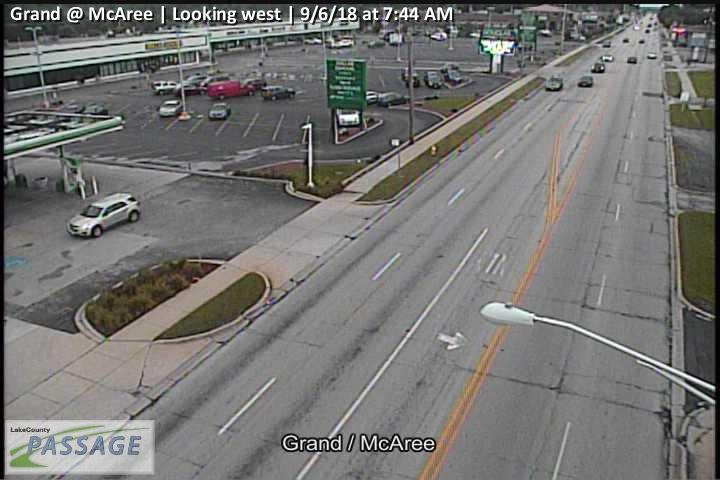SUV: (64, 192, 141, 239), (263, 85, 296, 101), (151, 80, 176, 95)
Sedan: (377, 92, 410, 106), (337, 109, 360, 127), (159, 100, 182, 117), (208, 102, 231, 119), (424, 72, 442, 88), (545, 76, 564, 91), (578, 76, 593, 86), (592, 62, 604, 72), (601, 54, 612, 60), (601, 40, 610, 47), (647, 52, 656, 58), (627, 57, 637, 62), (622, 38, 629, 43)
Truck: (207, 81, 256, 100)
